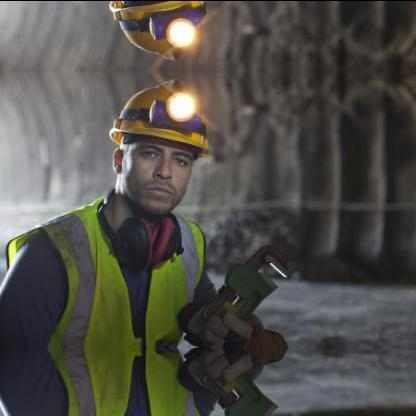Helmet: (102, 76, 220, 218), (101, 0, 222, 61)
